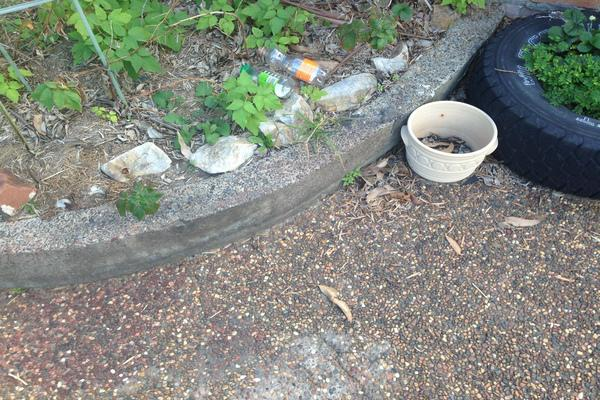Plastic Bottle: (257, 44, 331, 85), (240, 63, 296, 99)
